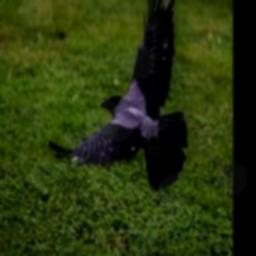Crow: (49, 0, 187, 191)
